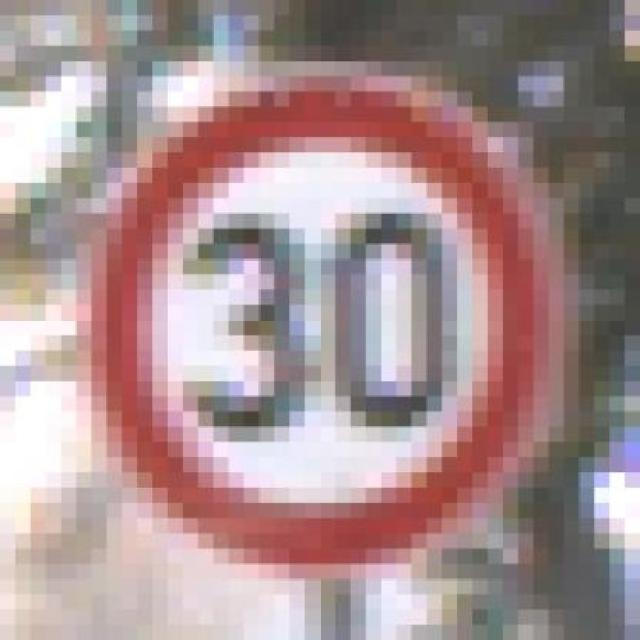forb_speed_over_30: (103, 87, 540, 562)
